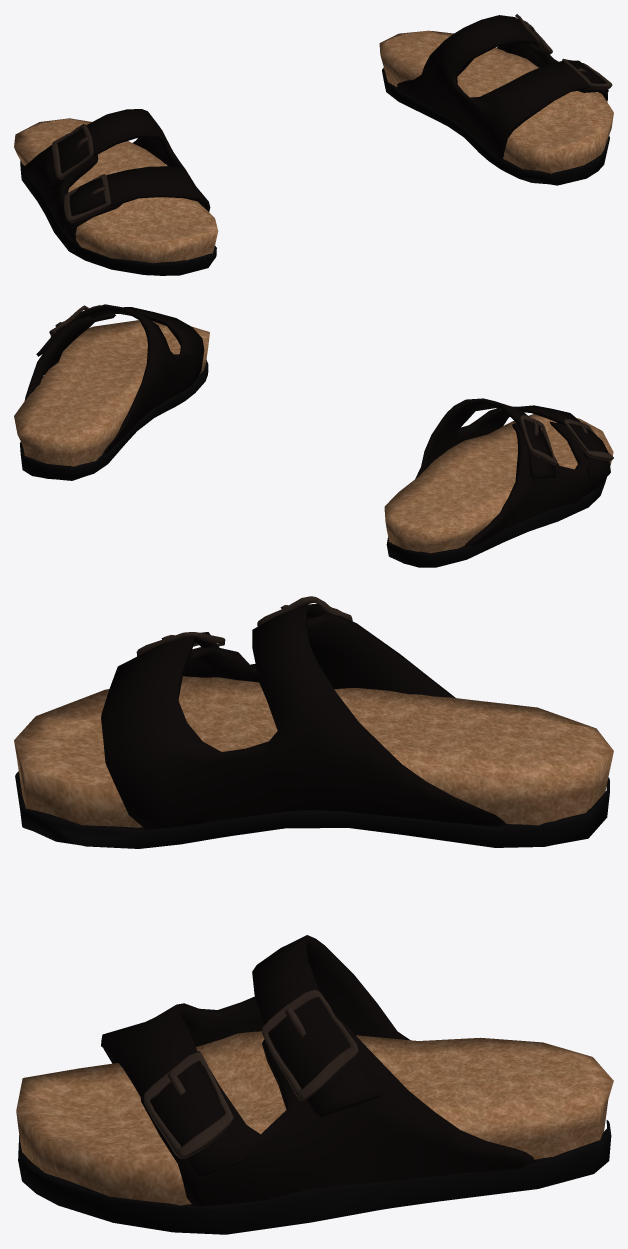
The model's file is v3_phr_female_UA_shoes_sandals_birkenstock_black.glb.
The picture shows the model from 3 angles, top to bottom: view 1: azimuth 30°, elevation 25°; view 2: azimuth 150°, elevation 25°; view 3: azimuth 270°, elevation 25°; orthographic projection. The views are drawn at different scales.
Visible parts, largest first — view 1: UnionAvatars_Shoes; view 2: UnionAvatars_Shoes; view 3: UnionAvatars_Shoes.
Boxes of the visible parts, x1,y1,x2,y2 form: UnionAvatars_Shoes: (14,14,613,275); UnionAvatars_Shoes: (14,304,613,567); UnionAvatars_Shoes: (14,596,613,1234).
Bounding box in the file's own units: 0.5007 × 0.0997 × 0.251.
Materials: 1 (1 with a texture image).
